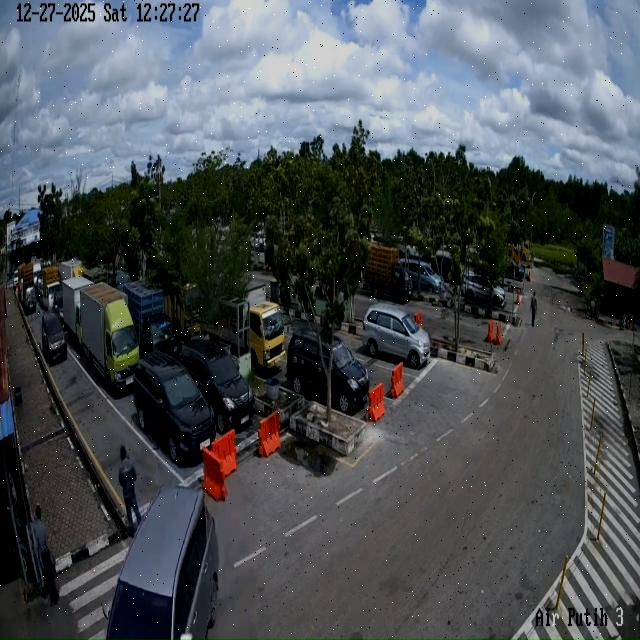Golongan IVA: (102, 486, 219, 639), (133, 352, 215, 464), (179, 339, 255, 434), (286, 329, 370, 414), (362, 304, 431, 369), (461, 272, 506, 308), (402, 258, 442, 294), (41, 311, 67, 366)
Golongan IVB: (122, 282, 178, 358), (364, 243, 413, 303), (41, 266, 61, 310), (19, 263, 36, 314)
Golongan VB: (205, 285, 286, 371), (76, 282, 140, 390), (62, 276, 94, 346)
